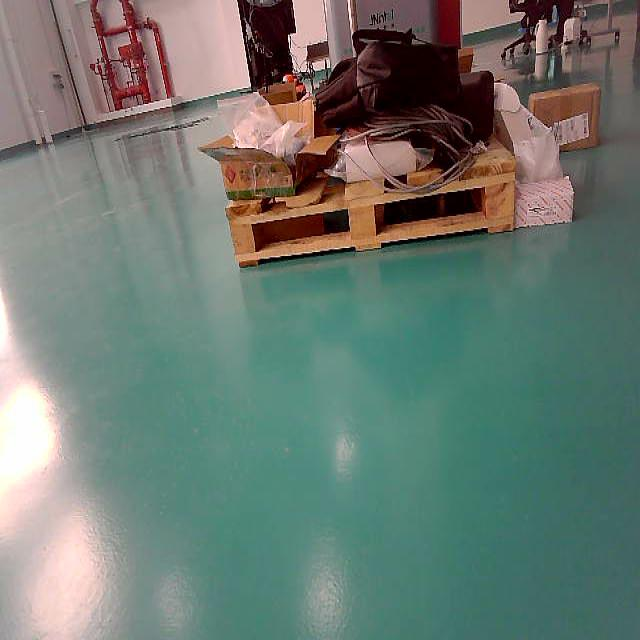euro: (226, 120, 518, 267), (225, 129, 515, 267)
